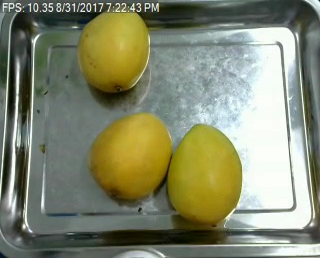Mango: (165, 123, 242, 222), (85, 113, 172, 199), (77, 6, 149, 95)
